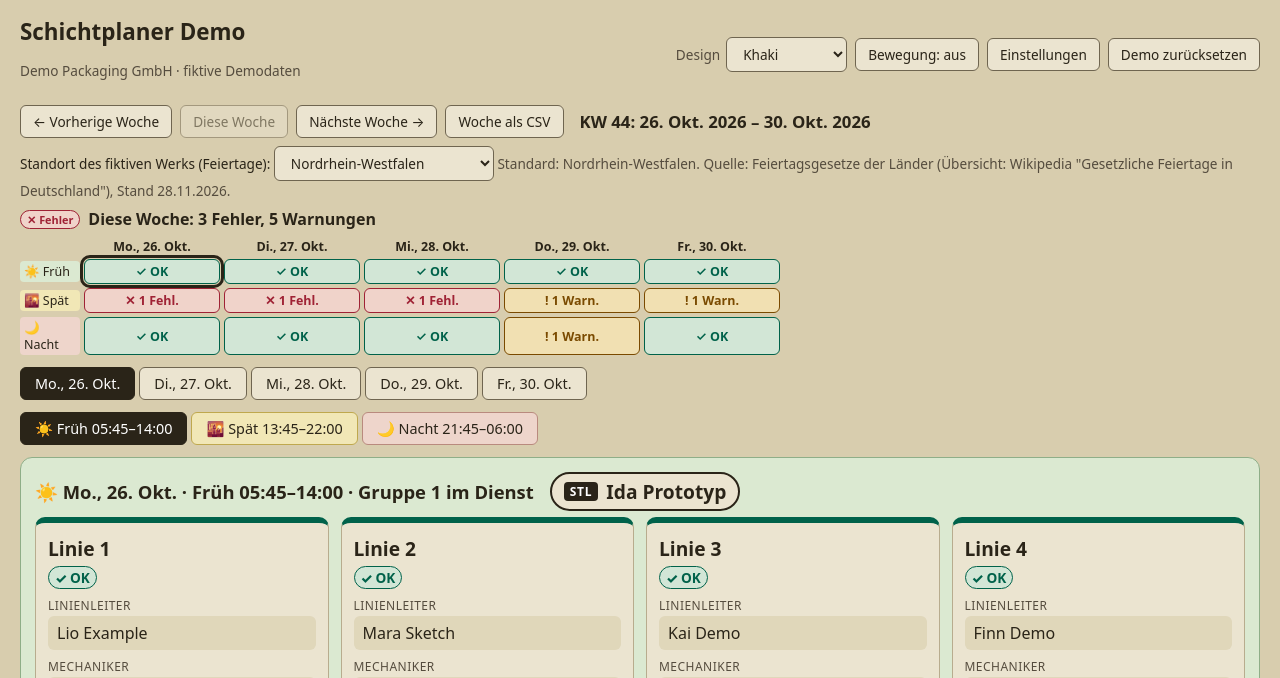
Test: empty slots and cover › reset clears accepted covers and closes the panel
This screenshot has width=1280, height=678.
Click the button with aria-label ": Fehler," at (152, 301), box x1=84 y1=288 x2=220 y2=313
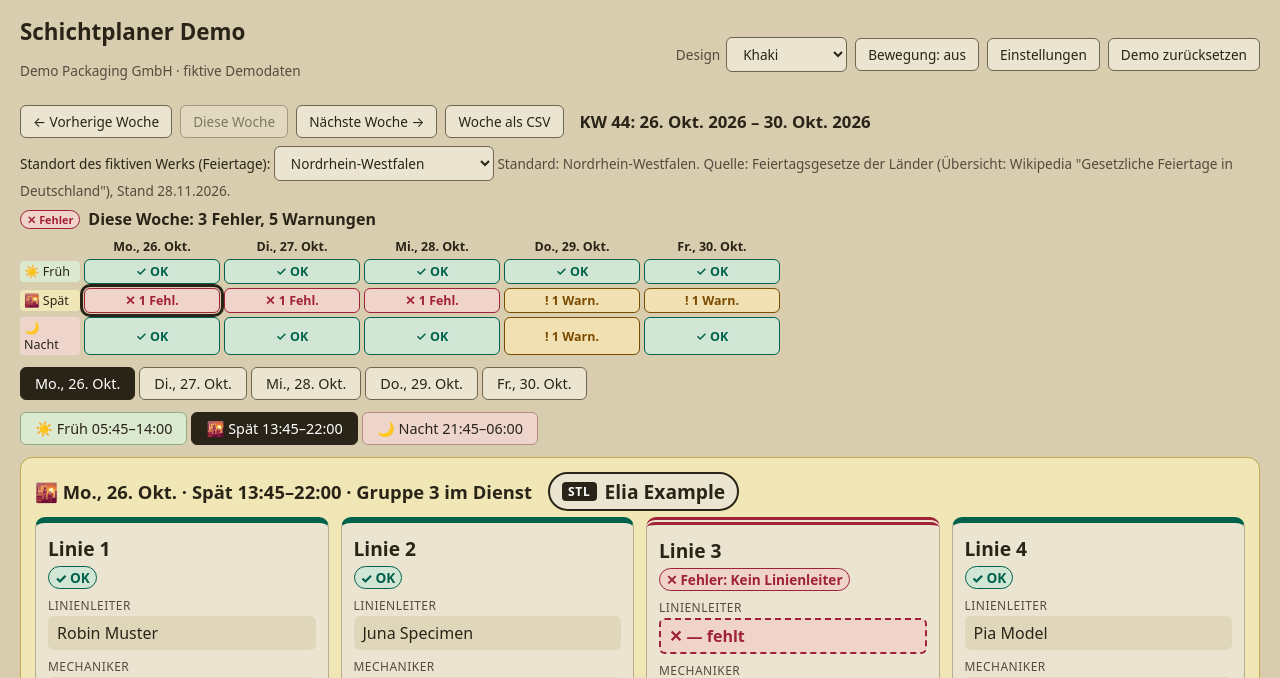
Click the button with aria-label "Vertretung finden" at (716, 636), box x1=659 y1=618 x2=926 y2=654
(page scrolled)
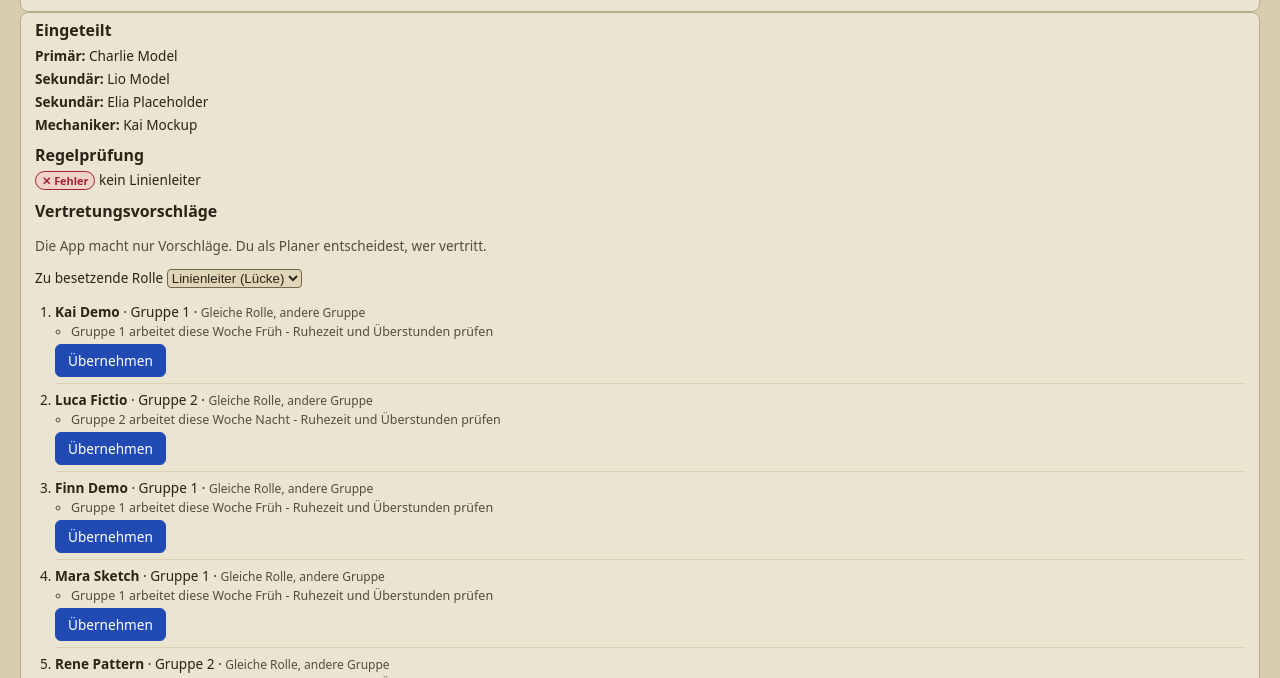
Click the button " übernehmen" below "Kai Demo" at (110, 360), box x1=55 y1=344 x2=166 y2=377
(page scrolled)
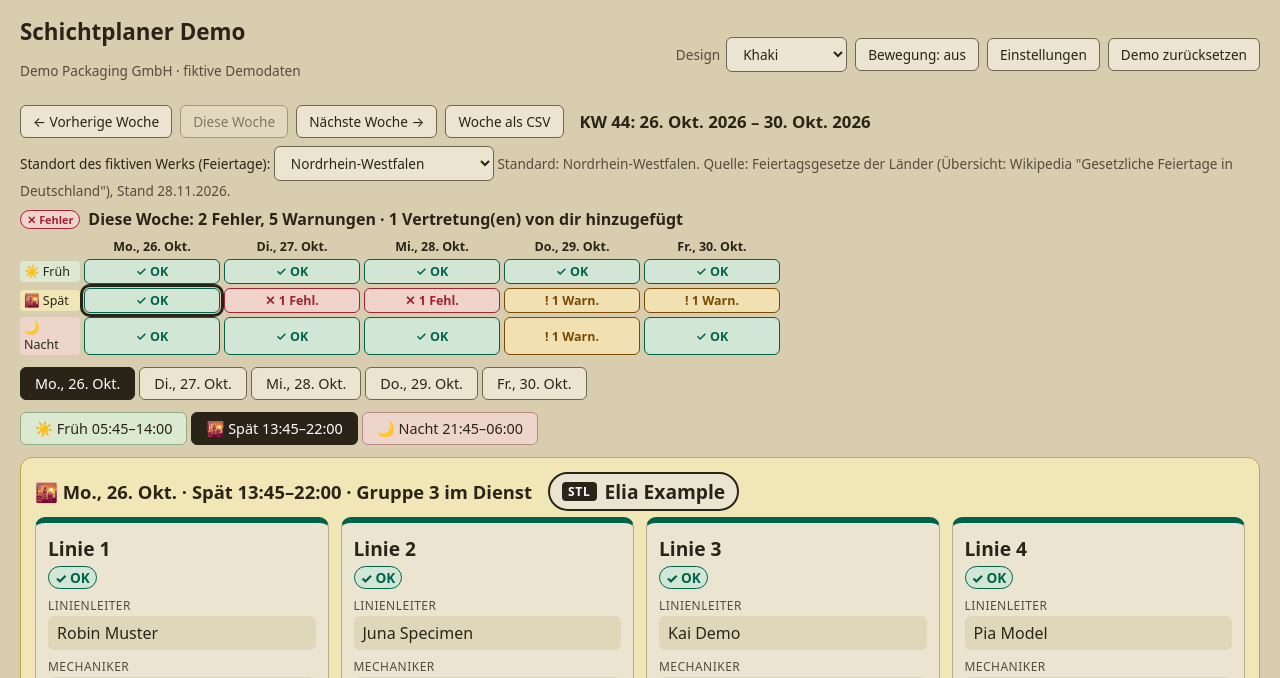
Click the button "Demo zurücksetzen" at (1184, 55), box x1=1108 y1=38 x2=1260 y2=71
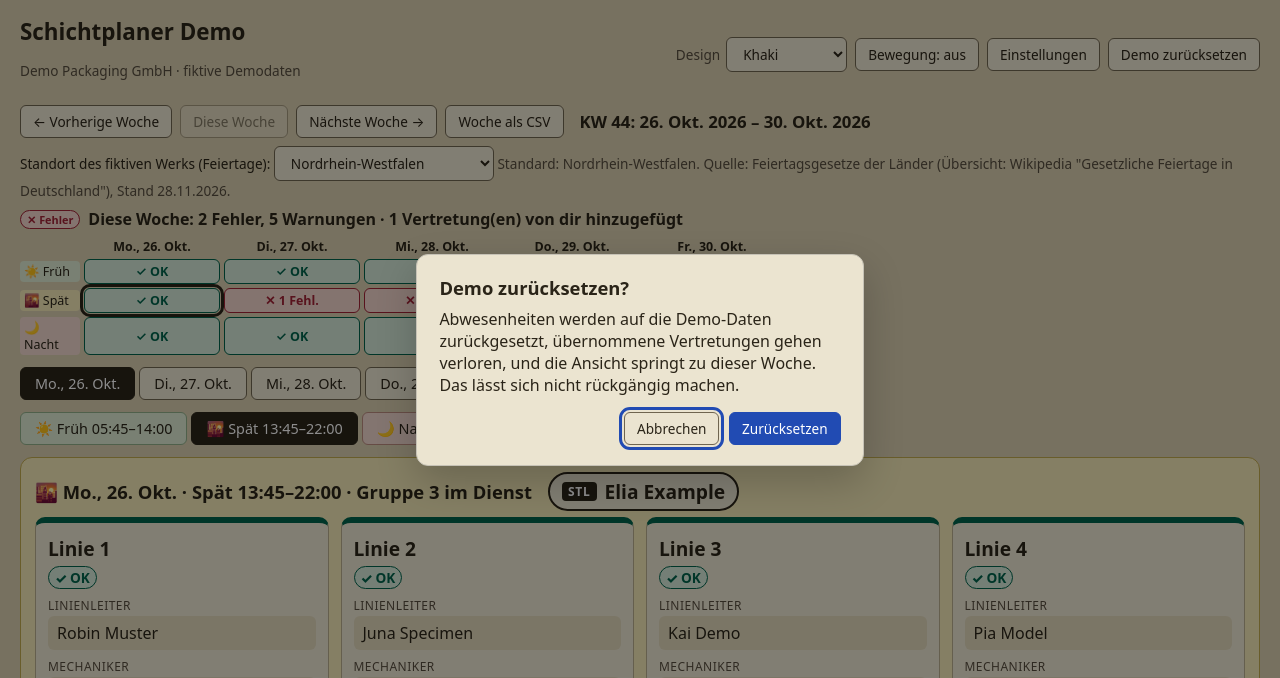
Click the button "Zurücksetzen" at (785, 428), box x1=729 y1=412 x2=841 y2=445
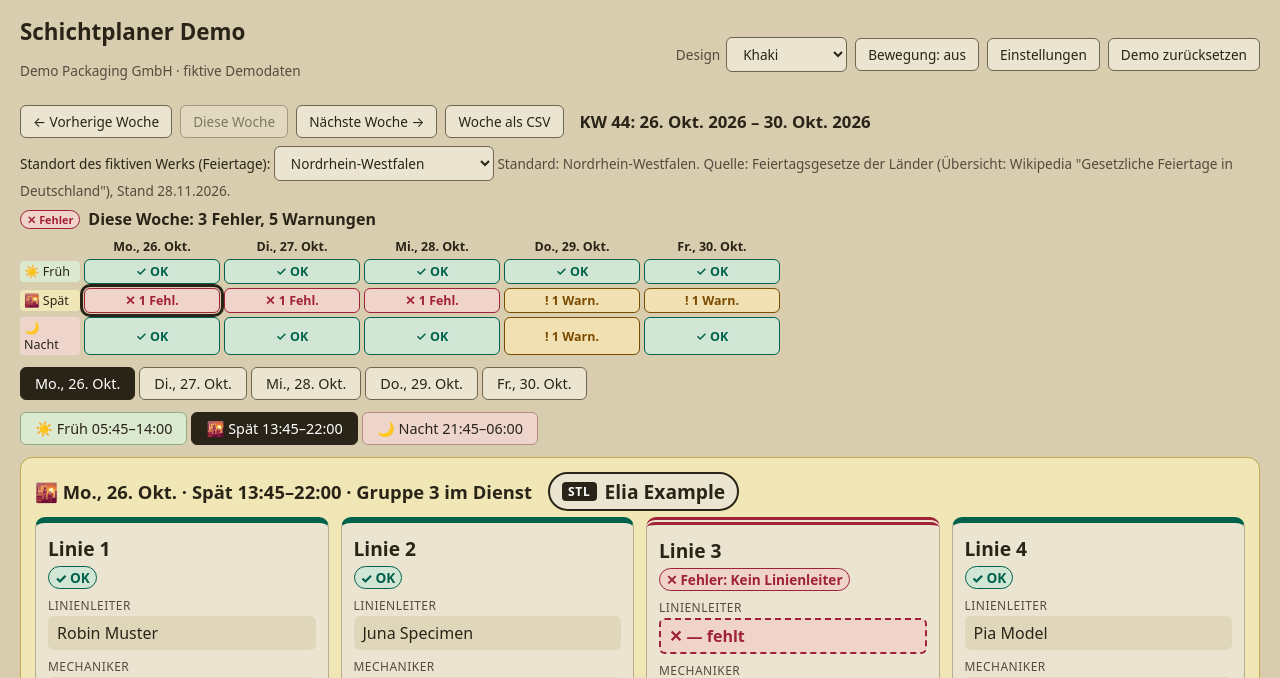
Expected: the text "von dir hinzugefügt" is gone
